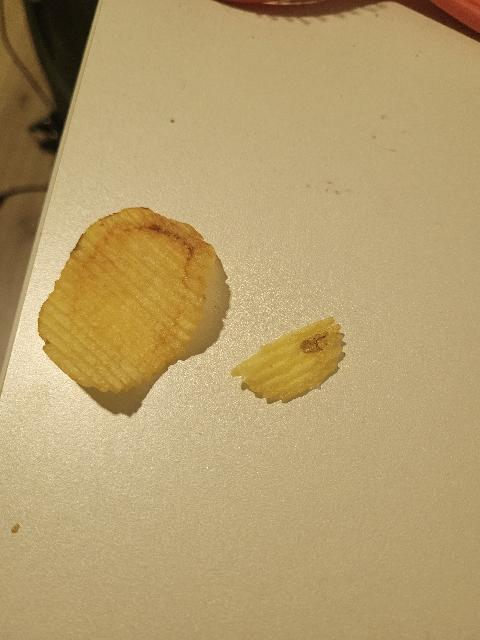Organik: (33, 208, 229, 414), (233, 316, 348, 408)
